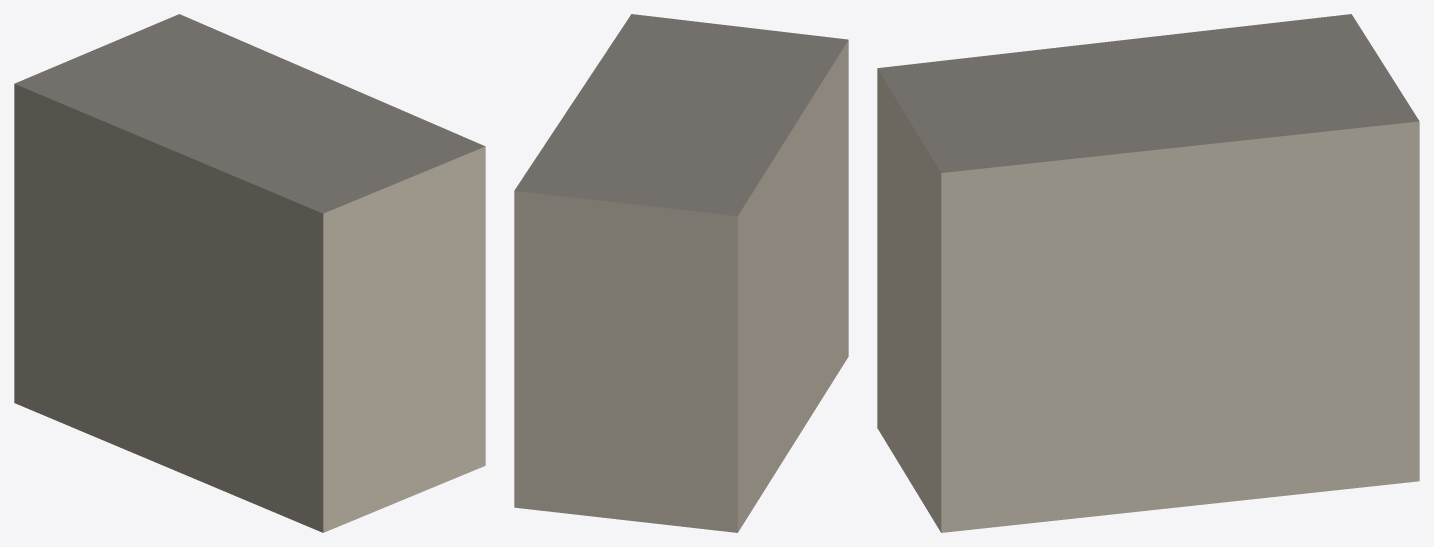
3 views of the same model, side by side, from view 1: azimuth 30°, elevation 25°; view 2: azimuth 150°, elevation 25°; view 3: azimuth 270°, elevation 25° (orthographic). The views are drawn at different scales.
Parts seen in each view (by area): view 1: HP-w446934322; view 2: HP-w446934322; view 3: HP-w446934322.
Part boxes in pixels (<box>): HP-w446934322: <box>14,14,485,532</box>; HP-w446934322: <box>514,14,848,532</box>; HP-w446934322: <box>877,14,1419,532</box>.
Bounding box in the file's own units: 17.07 × 18 × 24.58.
